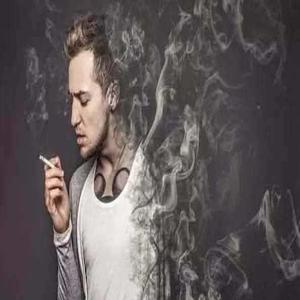cigarette: (37, 153, 56, 171)
